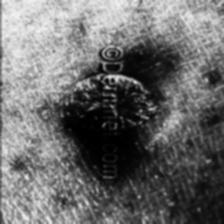Potentially Malignant Skin Tumors: (118, 71, 170, 138), (64, 75, 96, 142)
